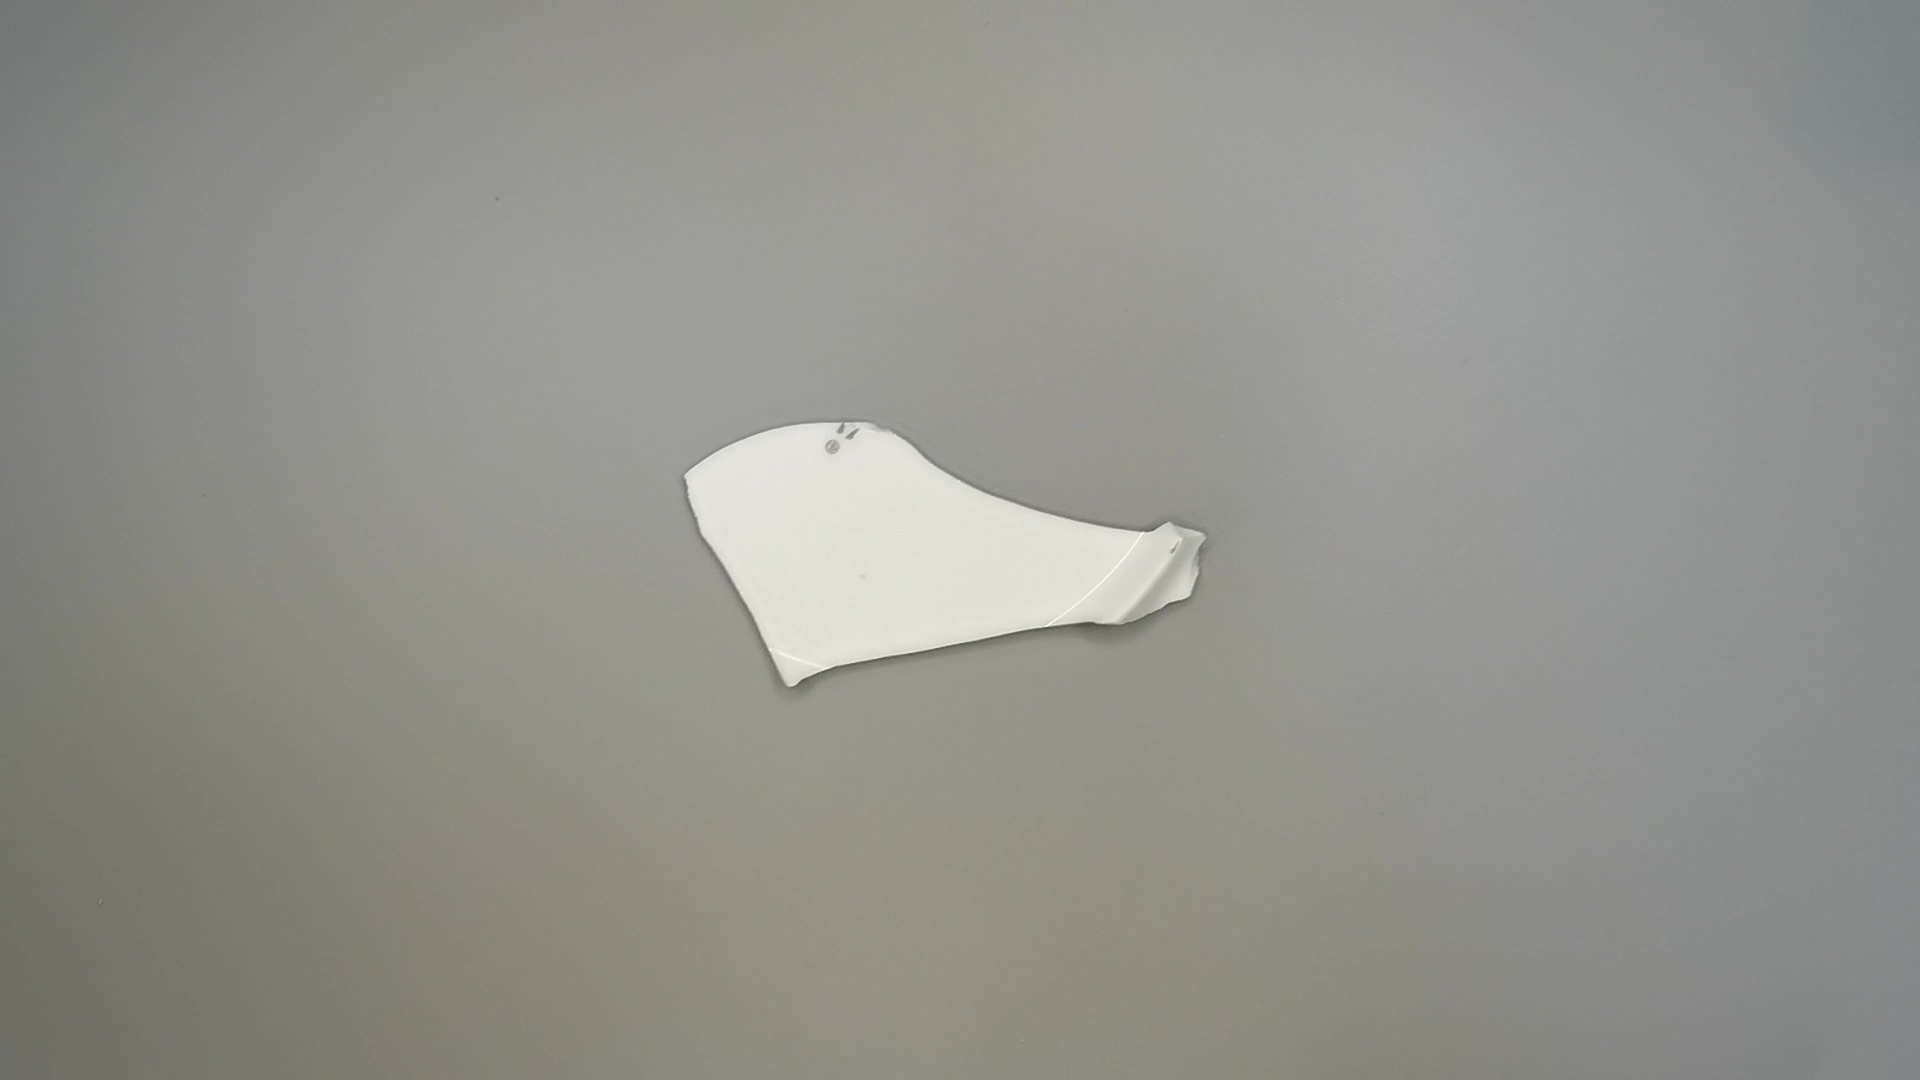ceramic: (676, 415, 1215, 698)
